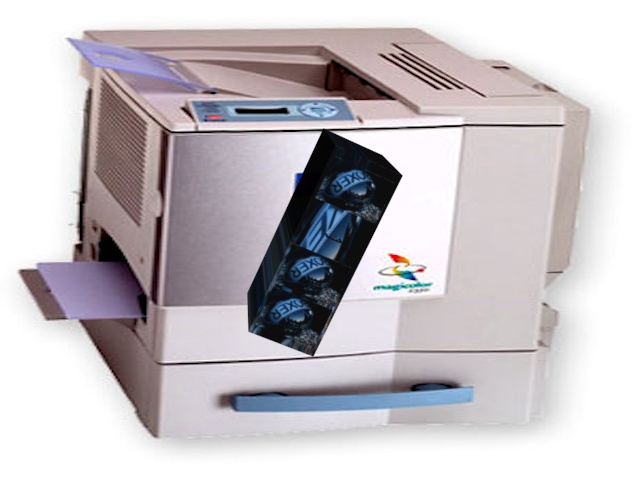file_cabinet: (240, 129, 408, 368)
